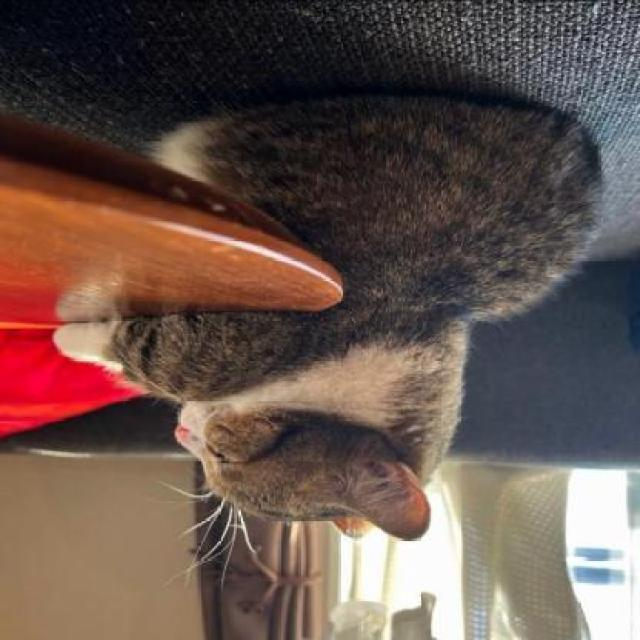cat: (47, 92, 611, 560)
